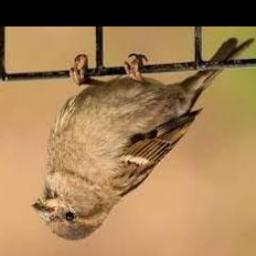Sparrow: (32, 38, 254, 240)
